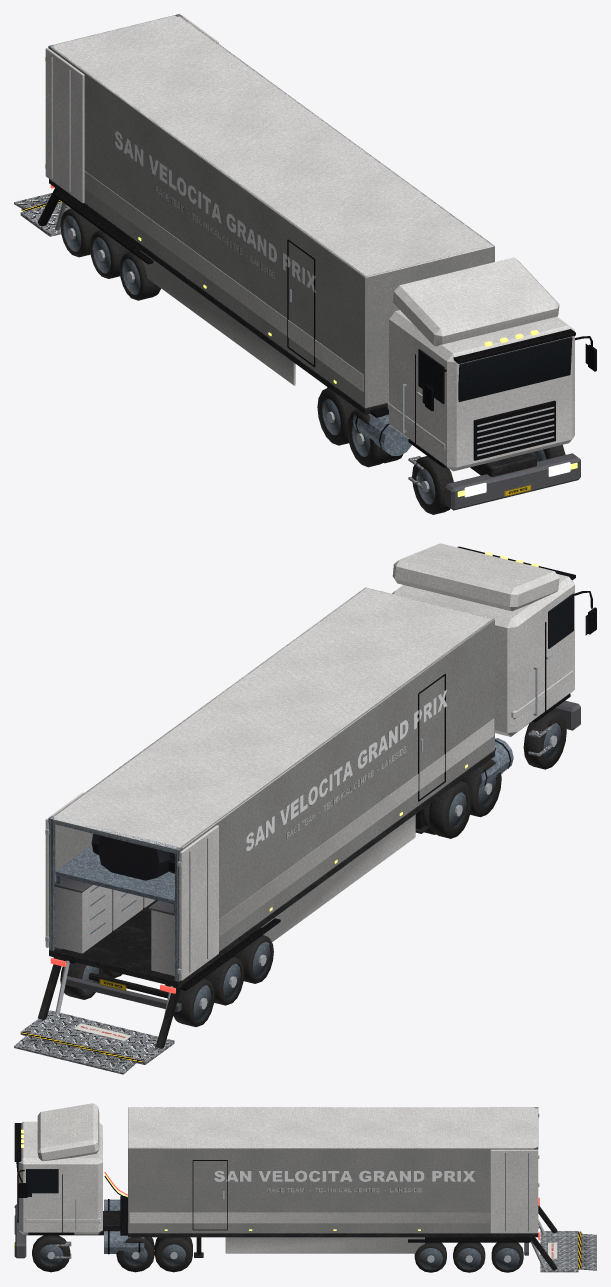
Rendered from station_truck.glb.
3 renders of one model, top to bottom at view 1: azimuth 30°, elevation 25°; view 2: azimuth 150°, elevation 25°; view 3: azimuth 270°, elevation 25°, orthographic. The views are drawn at different scales.
Visible parts, largest first — view 1: Tk_Roof, Tk_Side-1, Tk_Cab, Tk_Fairing, Tk_Band-1, Tk_Front, Tk_RearDoor-1, Tk_Windscreen, Tk_Skirt-1, Tk_Bumper, Tk_Grille, Tk_Script-1 (+13 smaller); view 2: Tk_Roof, Tk_Side-1, Tk_Cab, Tk_Fairing, Tk_Floor, Tk_Band-1, Tk_RearDoor-1, Tk_Skirt-1, Tk_TailLift, Tk_Cab10, Tk_Script-1, Tk_UpperDeck (+17 smaller); view 3: Tk_Side1, Tk_Roof, Tk_Cab, Tk_Band1, Tk_RearDoor1, Tk_Skirt1, Tk_Fairing, Tk_Script1, Tk_Floor, Tk_TailLift, Tk_WheelF_L_Tyre, Tk_SideWin1 (+20 smaller).
Part boxes in pixels (x1,y1,x2,y2): Tk_Roof: [51, 15, 493, 278]; Tk_Side-1: [50, 46, 367, 408]; Tk_Cab: [389, 310, 574, 471]; Tk_Fairing: [392, 257, 559, 346]; Tk_Band-1: [84, 171, 363, 392]; Tk_Front: [364, 246, 494, 408]; Tk_RearDoor-1: [45, 48, 84, 203]; Tk_Windscreen: [458, 337, 572, 401]; Tk_Skirt-1: [140, 250, 295, 385]; Tk_Bumper: [445, 453, 580, 510]; Tk_Grille: [473, 400, 555, 460]; Tk_Script-1: [114, 131, 315, 292]; Tk_Roof: [51, 587, 493, 851]; Tk_Side-1: [177, 618, 494, 980]; Tk_Cab: [392, 574, 574, 736]; Tk_Fairing: [392, 543, 559, 611]; Tk_Floor: [49, 750, 494, 987]; Tk_Band-1: [219, 718, 494, 936]; Tk_RearDoor-1: [180, 825, 218, 980]; Tk_Skirt-1: [261, 814, 415, 944]; Tk_TailLift: [20, 1010, 174, 1064]; Tk_Cab10: [55, 885, 111, 953]; Tk_Script-1: [246, 689, 447, 851]; Tk_UpperDeck: [55, 845, 174, 904]; Tk_Side1: [128, 1147, 533, 1233]; Tk_Roof: [128, 1107, 537, 1149]; Tk_Cab: [18, 1121, 102, 1234]; Tk_Band1: [129, 1212, 490, 1223]; Tk_RearDoor1: [490, 1149, 538, 1233]; Tk_Skirt1: [225, 1237, 424, 1253]; Tk_Fairing: [37, 1103, 99, 1161]; Tk_Script1: [214, 1170, 474, 1192]; Tk_Floor: [128, 1233, 538, 1237]; Tk_TailLift: [540, 1231, 578, 1272]; Tk_WheelF_L_Tyre: [32, 1235, 70, 1272]; Tk_SideWin1: [26, 1169, 58, 1193].
Size of the model in its own units: 3.24 by 3.8 by 15.2.
21 materials, 17 textured.
